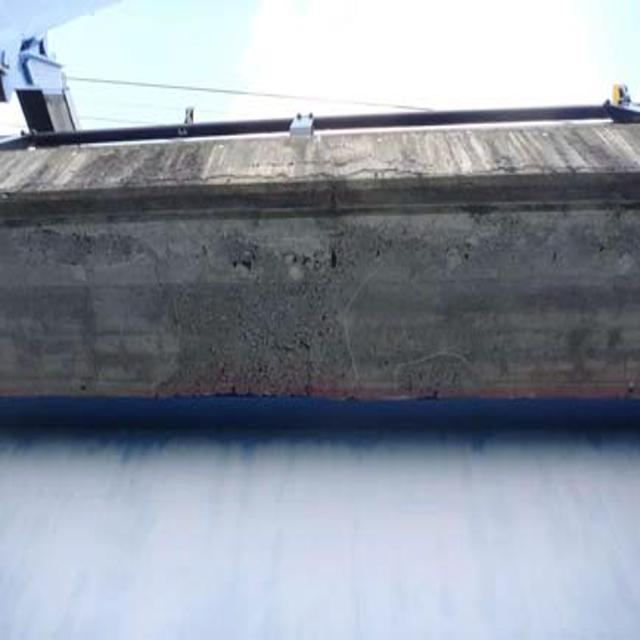spalling: (31, 219, 600, 294)
